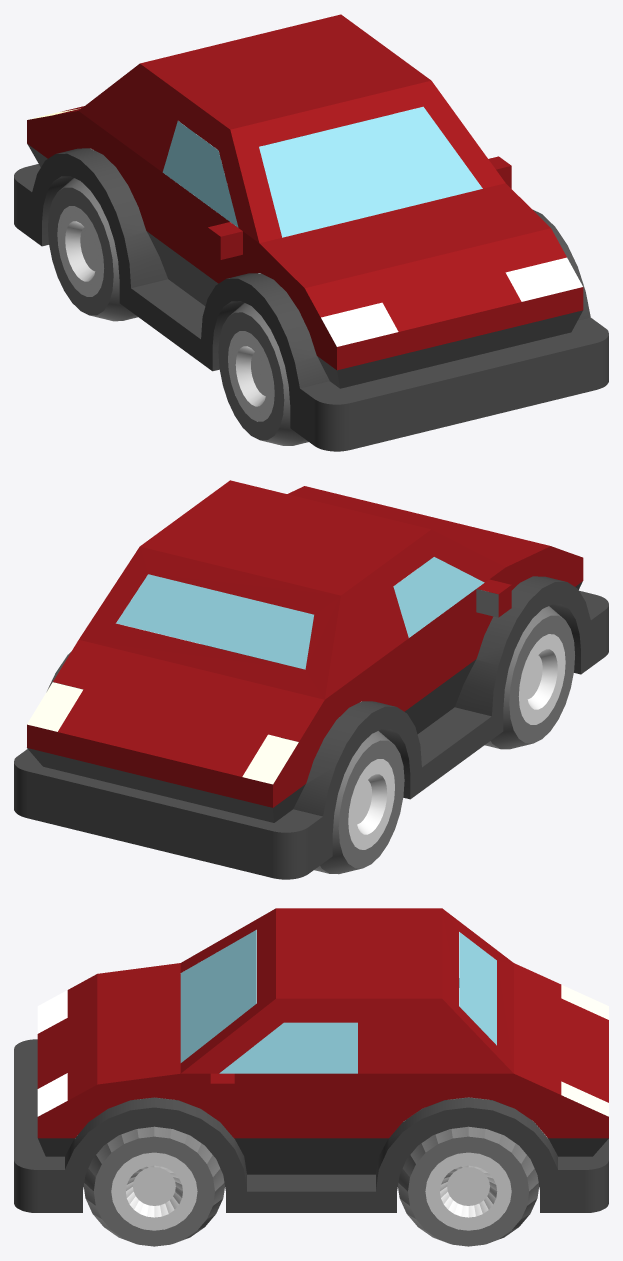
The model's file is sports-sedan.glb.
The picture shows the model from 3 angles, top to bottom: view 1: azimuth 30°, elevation 25°; view 2: azimuth 150°, elevation 25°; view 3: azimuth 270°, elevation 25°; orthographic projection. The views are drawn at different scales.
Parts seen in each view (by area): view 1: body.008, wheel_frontRight.008, wheel_backRight.008; view 2: body.008, wheel_backRight.008, wheel_frontRight.008; view 3: body.008, wheel_backLeft.008, wheel_frontLeft.008.
Part boxes in pixels (left/top/right/bottom): body.008: left=14, top=14, right=608, bottom=451; wheel_frontRight.008: left=218, top=303, right=336, bottom=445; wheel_backRight.008: left=48, top=178, right=137, bottom=321; body.008: left=14, top=480, right=608, bottom=879; wheel_backRight.008: left=274, top=717, right=404, bottom=874; wheel_frontRight.008: left=481, top=590, right=574, bottom=749; body.008: left=14, top=908, right=608, bottom=1212; wheel_backLeft.008: left=398, top=1097, right=539, bottom=1246; wheel_frontLeft.008: left=83, top=1098, right=224, bottom=1246.
Bounding box in the file's own units: 1.3 × 1.1 × 2.5.
